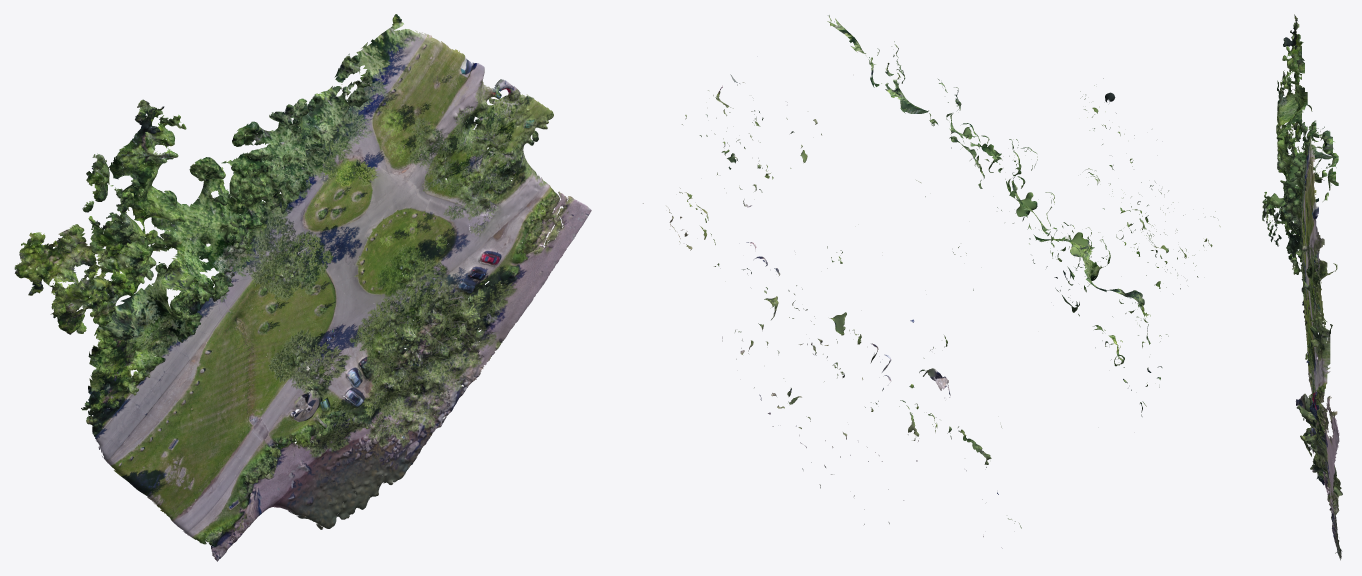
Rendered from mapa_simple50.glb.
The picture shows the model from 3 angles, left to right: view 1: azimuth 30°, elevation 25°; view 2: azimuth 150°, elevation 25°; view 3: azimuth 270°, elevation 25°; orthographic projection. The views are drawn at different scales.
Parts seen in each view (by area): view 1: Node; view 2: Node; view 3: Node.
Part boxes in pixels (bbox=[...]): Node: bbox=[14, 14, 591, 561]; Node: bbox=[643, 15, 1220, 548]; Node: bbox=[1262, 14, 1342, 560].
Bounding box in the file's own units: 130 × 106 × 17.93.
10 materials, 10 textured.
